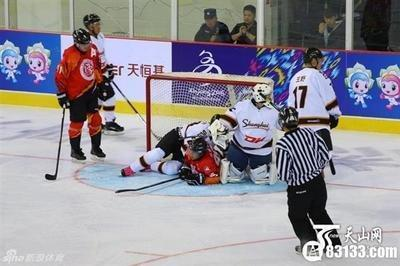Fall-Detected: (214, 75, 281, 168)
